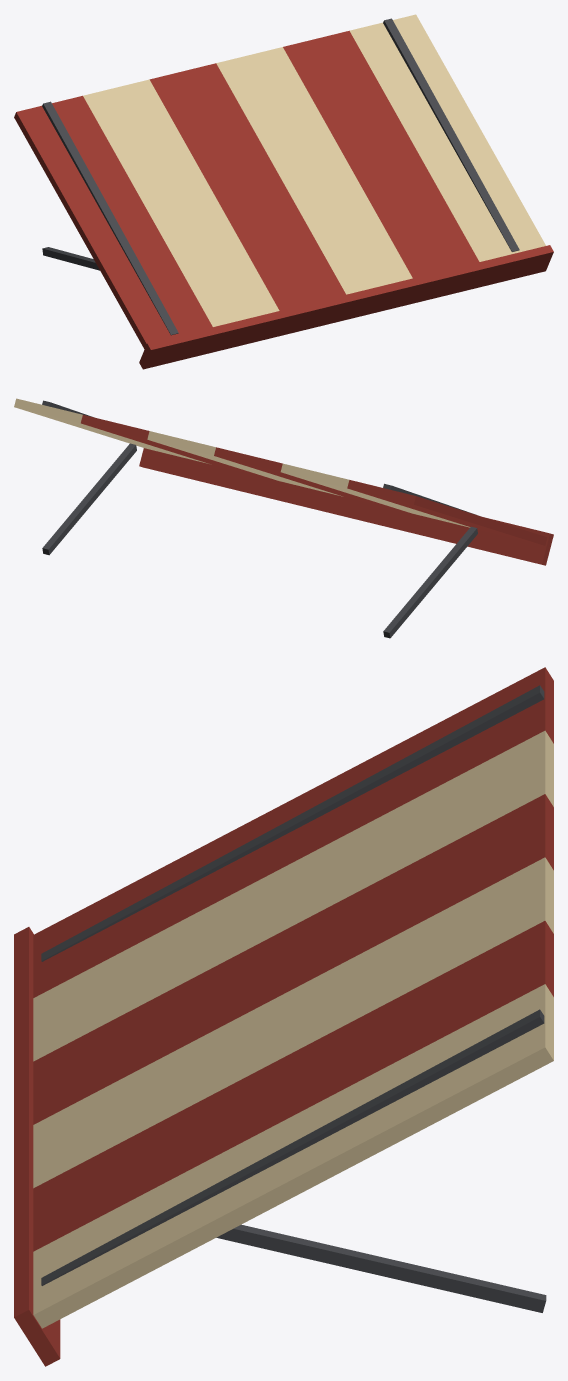
File: SM_Bld_Exterior_Shade_01.glb
3 renders of one model, top to bottom at view 1: azimuth 30°, elevation 25°; view 2: azimuth 150°, elevation 25°; view 3: azimuth 270°, elevation 25°, orthographic. The views are drawn at different scales.
Visible parts, largest first — view 1: SM_Bld_Exterior_Shade_01; view 2: SM_Bld_Exterior_Shade_01; view 3: SM_Bld_Exterior_Shade_01.
Part boxes in pixels (x1,y1,x2,y2): SM_Bld_Exterior_Shade_01: [14, 14, 553, 369]; SM_Bld_Exterior_Shade_01: [14, 398, 553, 638]; SM_Bld_Exterior_Shade_01: [14, 667, 553, 1366].
Size of the model in its own units: 2.6 by 1.03 by 1.55.
Materials: 1 (1 with a texture image).
